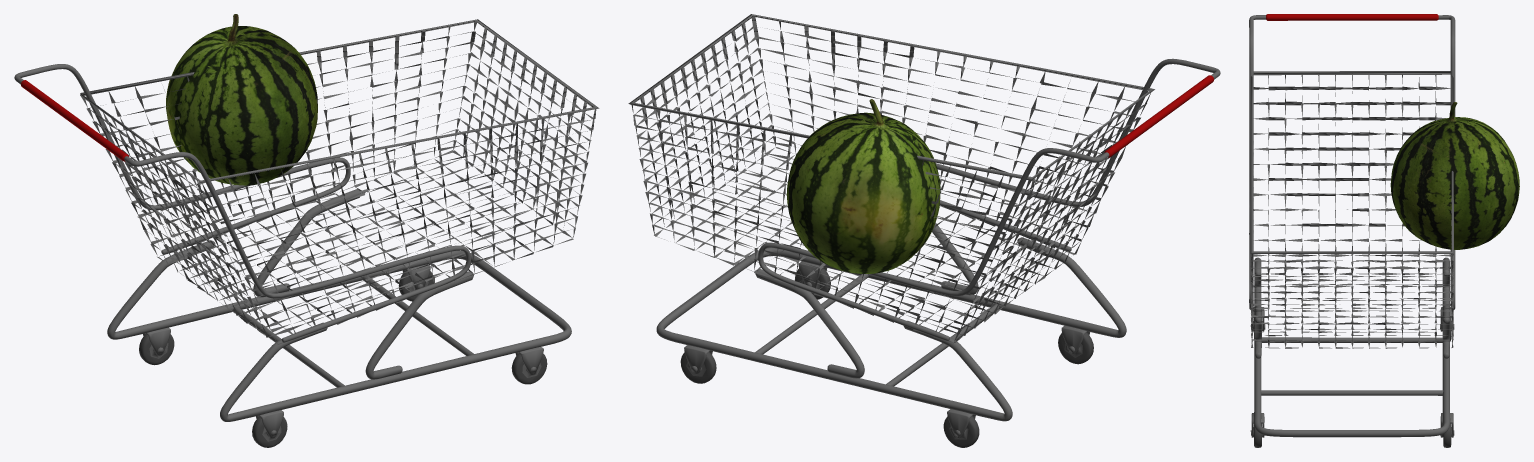
The model's file is throwables.glb.
3 views of the same model, side by side, from view 1: azimuth 30°, elevation 25°; view 2: azimuth 150°, elevation 25°; view 3: azimuth 270°, elevation 25° (orthographic). The views are drawn at different scales.
Parts seen in each view (by area): view 1: cart, watermelon; view 2: cart, watermelon; view 3: cart, watermelon.
Boxes of the visible parts, bbox=[...] form: cart: bbox=[14, 19, 599, 447]; watermelon: bbox=[166, 14, 317, 185]; cart: bbox=[628, 14, 1220, 447]; watermelon: bbox=[786, 99, 940, 273]; cart: bbox=[1249, 14, 1455, 447]; watermelon: bbox=[1390, 102, 1519, 249].
Bounding box in the file's own units: 1.21 × 0.809 × 0.7279.
Materials: 5 (1 with a texture image).
